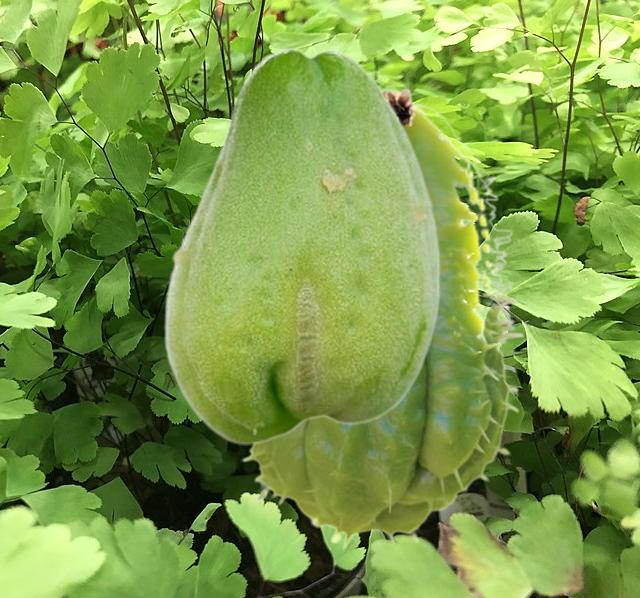sayote: (240, 86, 523, 550), (162, 46, 440, 444)
